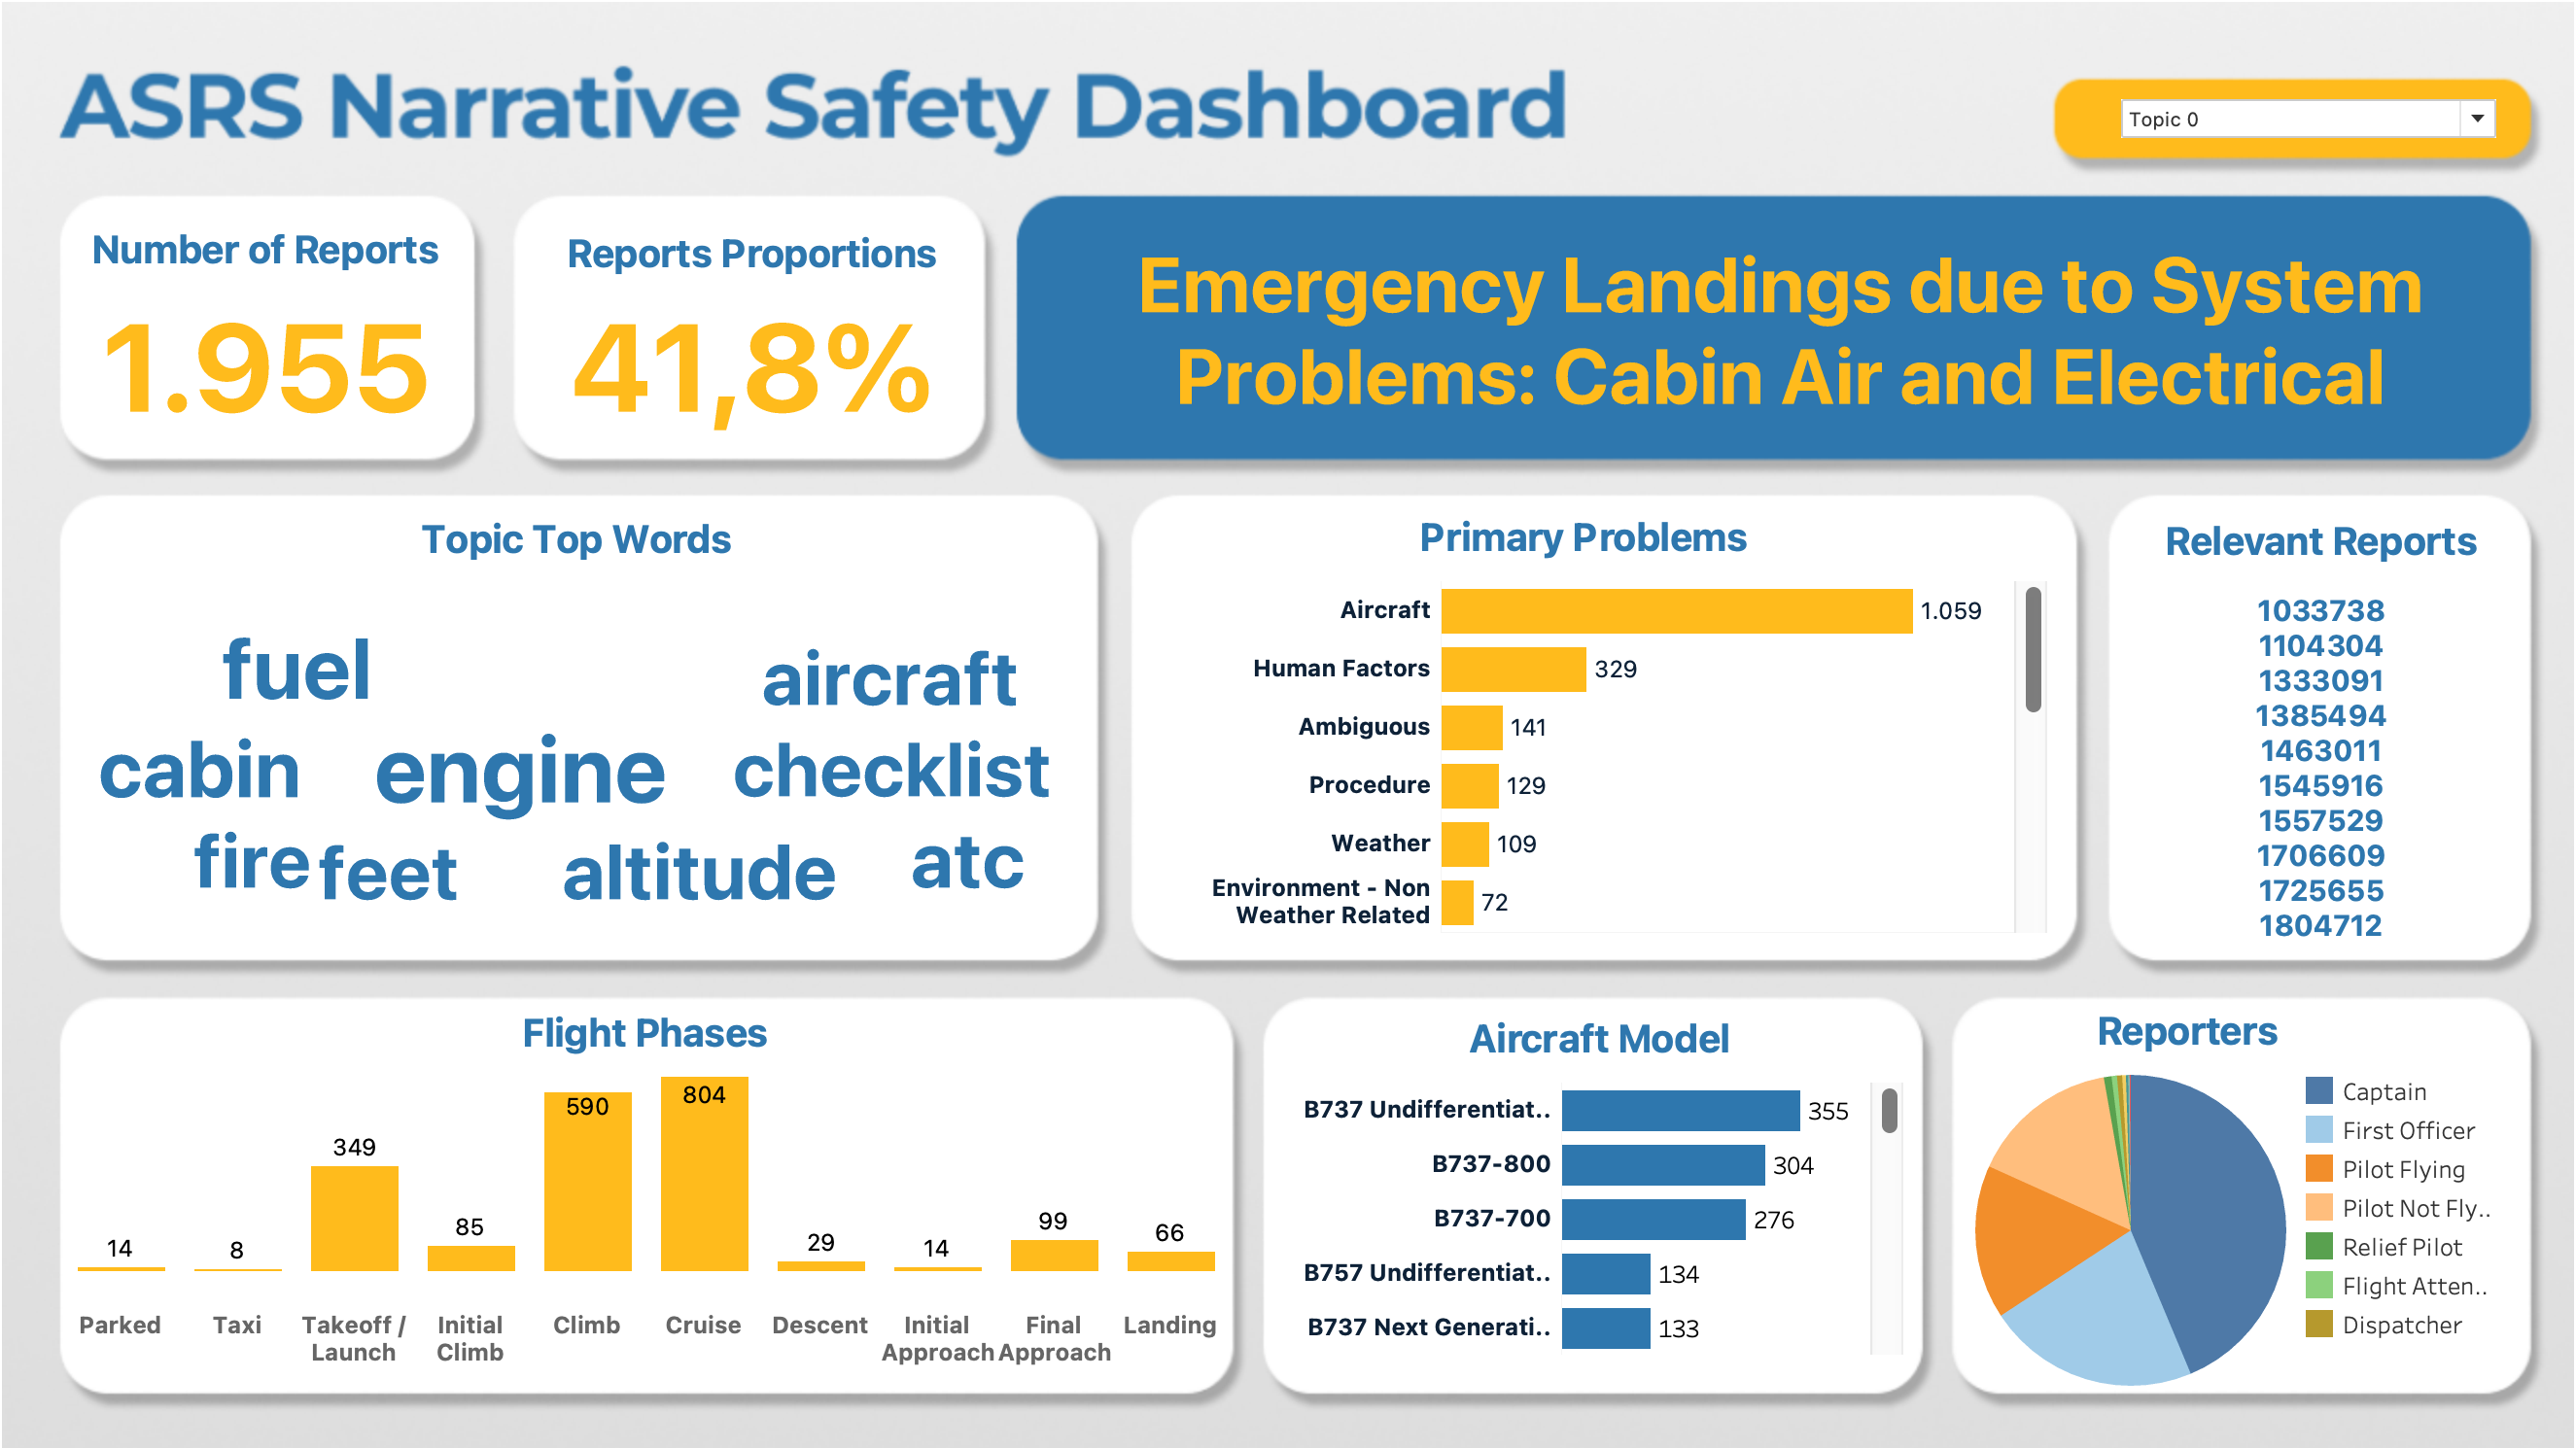

This screenshot's page, from the dashboard's own definition file:
{"tool":"tableau","page":{"name":"Dashboard 1","canvas":[1366,768],"ordinal":0},"visuals":[{"type":"image","param":"/Users/eduardobastian/Library/CloudStorage/OneDrive-InstitutTeknologiBandung/Tug","box":[8,8,1350,752]},{"type":"filter","title":"WordCloud","param":"[federated.1yhvj0f1hx3na715lpio80fjoe0a].[none:Topic:nk]","box":[1036,59,271,31]},{"type":"worksheet","title":"Title","mark":"Automatic","box":[541,101,789,144]},{"type":"worksheet","title":"NumberOfDocs","mark":"Text","box":[47,123,219,112]},{"type":"worksheet","title":"TopicProportions","mark":"Text","box":[285,125,244,109]},{"type":"worksheet","title":"PrimaryProblem","mark":"Bar","rows":["Primary Problem"],"cols":["Primary Problem"],"box":[613,271,460,220]},{"type":"worksheet","title":"WordCloud","mark":"Text","box":[71,272,491,229]},{"type":"worksheet","title":"Top Docs","mark":"Automatic","cols":["Topic"],"box":[1105,273,218,228]},{"type":"worksheet","title":"Reporters","mark":"Pie","box":[1036,525,264,202]},{"type":"worksheet","title":"FlightPhases","mark":"Bar","rows":["Calculation_1058557048106745876"],"cols":["Flight Phase 1"],"box":[52,526,600,196]},{"type":"worksheet","title":"AircraftModel","mark":"Bar","rows":["Make Model Name"],"cols":["Make Model Name"],"box":[687,529,312,179]},{"type":"legend","title":"Reporters","param":"[federated.1yhvj0f1hx3na715lpio80fjoe0a].[none:Function 1:nk]","box":[1203,544,119,157]}]}

Visuals, with their boxes in screenshot pixels (x1, y1, x2, y2), scaled from the page's 1366x768 canvas onto the 2576x1448 screenshot:
image: (left=16, top=16, right=2560, bottom=1432)
"WordCloud" filter: (left=1954, top=111, right=2465, bottom=170)
"Title" worksheet: (left=1021, top=190, right=2508, bottom=462)
"NumberOfDocs" worksheet (Text marks): (left=88, top=232, right=502, bottom=443)
"TopicProportions" worksheet (Text marks): (left=538, top=236, right=997, bottom=441)
"PrimaryProblem" worksheet (Bar marks): (left=1156, top=511, right=2024, bottom=926)
"WordCloud" worksheet (Text marks): (left=134, top=513, right=1060, bottom=945)
"Top Docs" worksheet: (left=2084, top=515, right=2495, bottom=945)
"Reporters" worksheet (Pie marks): (left=1954, top=990, right=2452, bottom=1370)
"FlightPhases" worksheet (Bar marks): (left=98, top=991, right=1230, bottom=1362)
"AircraftModel" worksheet (Bar marks): (left=1296, top=997, right=1884, bottom=1335)
"Reporters" legend: (left=2269, top=1025, right=2493, bottom=1322)
